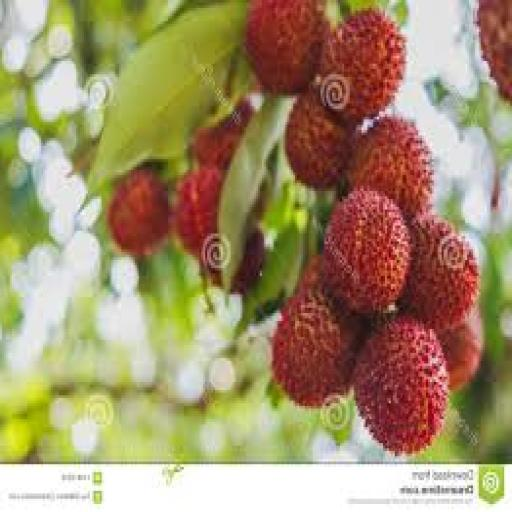lychee: (353, 319, 446, 453), (322, 189, 409, 313), (271, 292, 360, 408), (316, 8, 403, 122), (400, 213, 477, 331), (347, 117, 430, 217), (244, 0, 323, 92), (173, 168, 229, 283), (285, 91, 350, 188), (107, 170, 170, 257), (173, 168, 223, 273), (191, 101, 253, 169), (476, 0, 511, 103), (437, 308, 481, 389), (230, 229, 264, 294), (297, 255, 323, 291)
